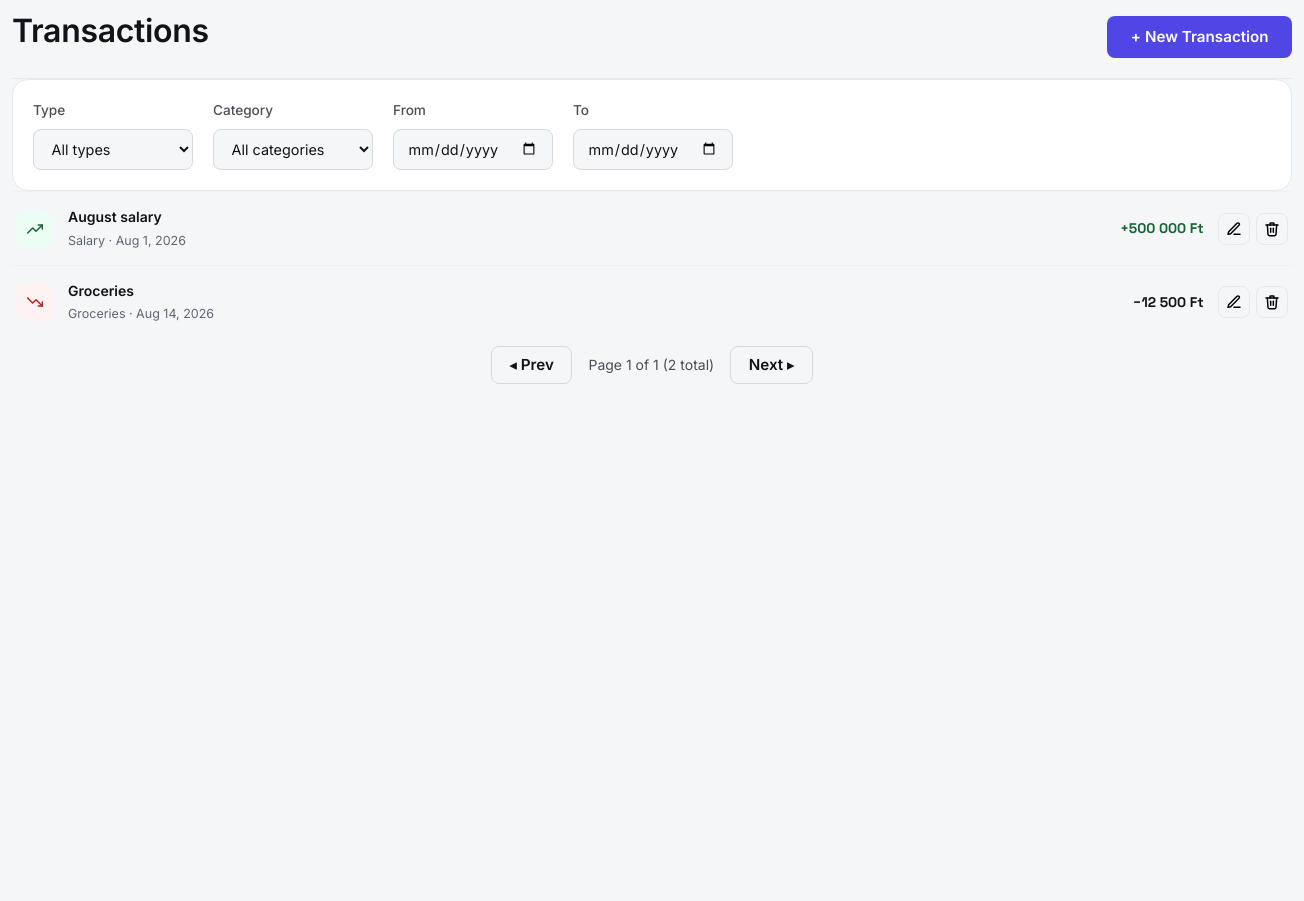
Test case: TransactionsTab › opens the form prefilled with the clicked transaction when its edit icon is clicked
Click the button named "Edit Groceries · Aug 14, 2026" at (1234, 302), box top-left (1218, 286), bottom-right (1250, 318)
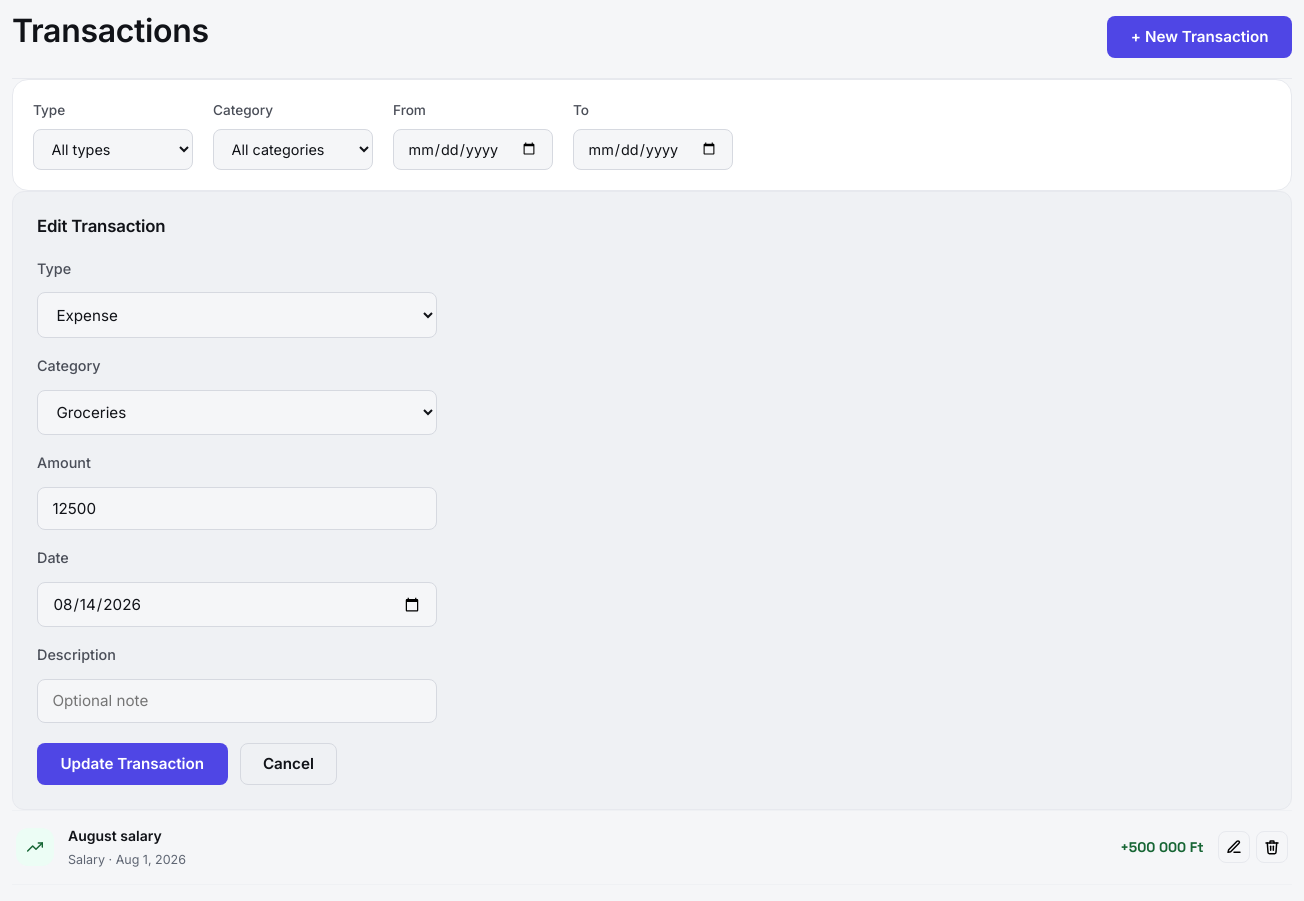
Expected: the heading "Edit Transaction" is shown, top-left (37, 216), bottom-right (166, 236)
Expected: the dropdown labelled "Type" below "Edit Transaction" shows "Expense", top-left (37, 292), bottom-right (437, 338)
Expected: the dropdown labelled "Category" below "Edit Transaction" shows "Groceries", top-left (37, 390), bottom-right (437, 435)
